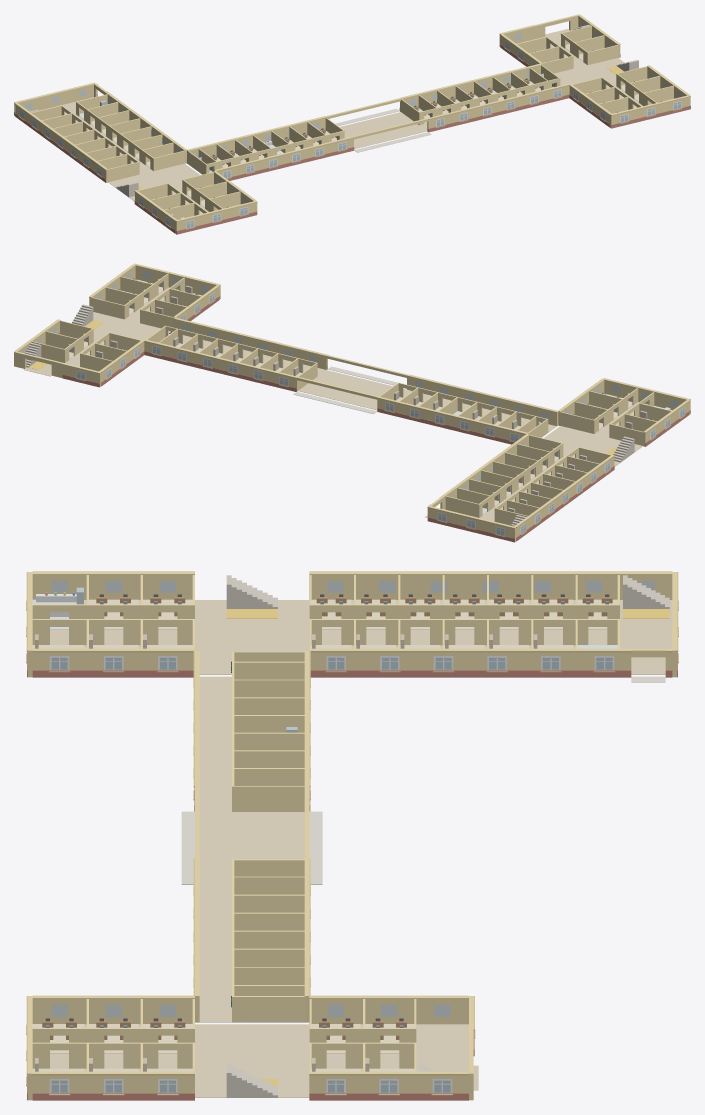
3 views of the same model, one above another, from view 1: azimuth 30°, elevation 25°; view 2: azimuth 150°, elevation 25°; view 3: azimuth 270°, elevation 25° (orthographic). The views are drawn at different scales.
Parts seen in each view (by area): view 1: HUS_T1_W__F1__F2D17C, HUS_T1__F1__E9C977, HUS_T1__F1__F2D17C, HUS_T1_E__F1__F2D17C, HUS_T1_W__F1__E9C977, HUS_T1_E__F1__E9C977, HUS_T1_W__F1__CDB892, HUS_T1__F1__CDB892, HUS_T1_E__F1__CDB892, HUS_T1__F1__9C4A3C, HUS_T1_W__F1__9C4A3C, HUS_T1__F1__C8AD66 (+8 smaller); view 2: HUS_T1_W__F1__F2D17C, HUS_T1__F1__E9C977, HUS_T1_E__F1__F2D17C, HUS_T1__F1__F2D17C, HUS_T1_W__F1__E9C977, HUS_T1_E__F1__E9C977, HUS_T1__F1__CDB892, HUS_T1_W__F1__CDB892, HUS_T1_E__F1__CDB892, HUS_T1__F1__9C4A3C, HUS_T1_W__F1__9C4A3C, HUS_T1__F1__C8AD66 (+11 smaller); view 3: HUS_T1__F1__F2D17C, HUS_T1_W__F1__E9C977, HUS_T1_W__F1__F2D17C, HUS_T1__F1__CDB892, HUS_T1_E__F1__E9C977, HUS_T1_E__F1__CDB892, HUS_T1_W__F1__CDB892, HUS_T1_E__F1__F2D17C, HUS_T1_W__F1__E3D2A8, HUS_T1__F1__E9C977, HUS_T1_W__F1__9C4A3C, HUS_T1_E__F1__E3D2A8 (+17 smaller).
Part boxes in pixels (bbox=[...]): HUS_T1_W__F1__F2D17C: bbox=[31, 94, 240, 219]; HUS_T1__F1__E9C977: bbox=[187, 63, 569, 176]; HUS_T1__F1__F2D17C: bbox=[188, 65, 560, 174]; HUS_T1_E__F1__F2D17C: bbox=[517, 25, 673, 113]; HUS_T1_W__F1__E9C977: bbox=[14, 83, 257, 234]; HUS_T1_E__F1__E9C977: bbox=[499, 14, 690, 127]; HUS_T1_W__F1__CDB892: bbox=[40, 97, 237, 219]; HUS_T1__F1__CDB892: bbox=[194, 112, 427, 173]; HUS_T1_E__F1__CDB892: bbox=[517, 29, 670, 113]; HUS_T1__F1__9C4A3C: bbox=[226, 94, 569, 180]; HUS_T1_W__F1__9C4A3C: bbox=[14, 94, 257, 234]; HUS_T1__F1__C8AD66: bbox=[187, 63, 569, 171]; HUS_T1_W__F1__F2D17C: bbox=[445, 388, 671, 525]; HUS_T1__F1__E9C977: bbox=[144, 318, 558, 440]; HUS_T1_E__F1__F2D17C: bbox=[31, 273, 201, 371]; HUS_T1__F1__F2D17C: bbox=[146, 325, 548, 437]; HUS_T1_W__F1__E9C977: bbox=[427, 378, 690, 541]; HUS_T1_E__F1__E9C977: bbox=[14, 263, 220, 386]; HUS_T1__F1__CDB892: bbox=[183, 335, 556, 432]; HUS_T1_W__F1__CDB892: bbox=[480, 402, 648, 521]; HUS_T1_E__F1__CDB892: bbox=[24, 287, 178, 376]; HUS_T1__F1__9C4A3C: bbox=[144, 351, 515, 444]; HUS_T1_W__F1__9C4A3C: bbox=[427, 410, 690, 542]; HUS_T1__F1__C8AD66: bbox=[144, 317, 557, 434]; HUS_T1__F1__F2D17C: bbox=[232, 651, 304, 1022]; HUS_T1_W__F1__E9C977: bbox=[27, 572, 677, 677]; HUS_T1_W__F1__F2D17C: bbox=[32, 575, 619, 648]; HUS_T1__F1__CDB892: bbox=[199, 676, 304, 1022]; HUS_T1_E__F1__E9C977: bbox=[27, 996, 473, 1100]; HUS_T1_E__F1__CDB892: bbox=[50, 1024, 478, 1097]; HUS_T1_W__F1__CDB892: bbox=[50, 600, 672, 674]; HUS_T1_E__F1__F2D17C: bbox=[32, 999, 416, 1071]; HUS_T1_W__F1__E3D2A8: bbox=[32, 599, 617, 648]; HUS_T1__F1__E9C977: bbox=[195, 650, 309, 1022]; HUS_T1_W__F1__9C4A3C: bbox=[27, 652, 677, 677]; HUS_T1_E__F1__E3D2A8: bbox=[32, 1024, 414, 1071].
Bounding box in the file's own units: 162 × 4 × 88.84.
